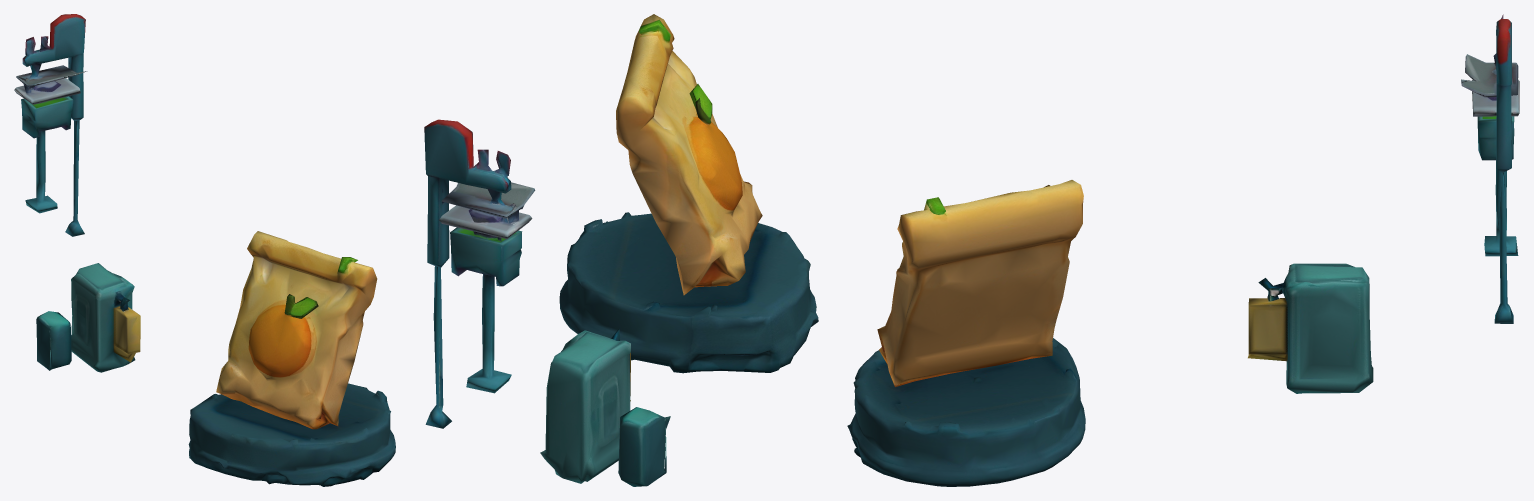
The model's file is utility_fruit_3000.glb.
3 views of the same model, side by side, from view 1: azimuth 30°, elevation 25°; view 2: azimuth 150°, elevation 25°; view 3: azimuth 270°, elevation 25° (orthographic). The views are drawn at different scales.
Visible parts, largest first — view 1: tripo_node_567be332-ce80-4569-bfb2-6431fc002ac1; view 2: tripo_node_567be332-ce80-4569-bfb2-6431fc002ac1; view 3: tripo_node_567be332-ce80-4569-bfb2-6431fc002ac1.
Part boxes in pixels (x1,y1,x2,y2): tripo_node_567be332-ce80-4569-bfb2-6431fc002ac1: (14,14,395,486); tripo_node_567be332-ce80-4569-bfb2-6431fc002ac1: (424,14,818,486); tripo_node_567be332-ce80-4569-bfb2-6431fc002ac1: (847,14,1519,486).
Size of the model in its own units: 0.4546 by 0.6454 by 0.9822.
1 material, 1 textured.
